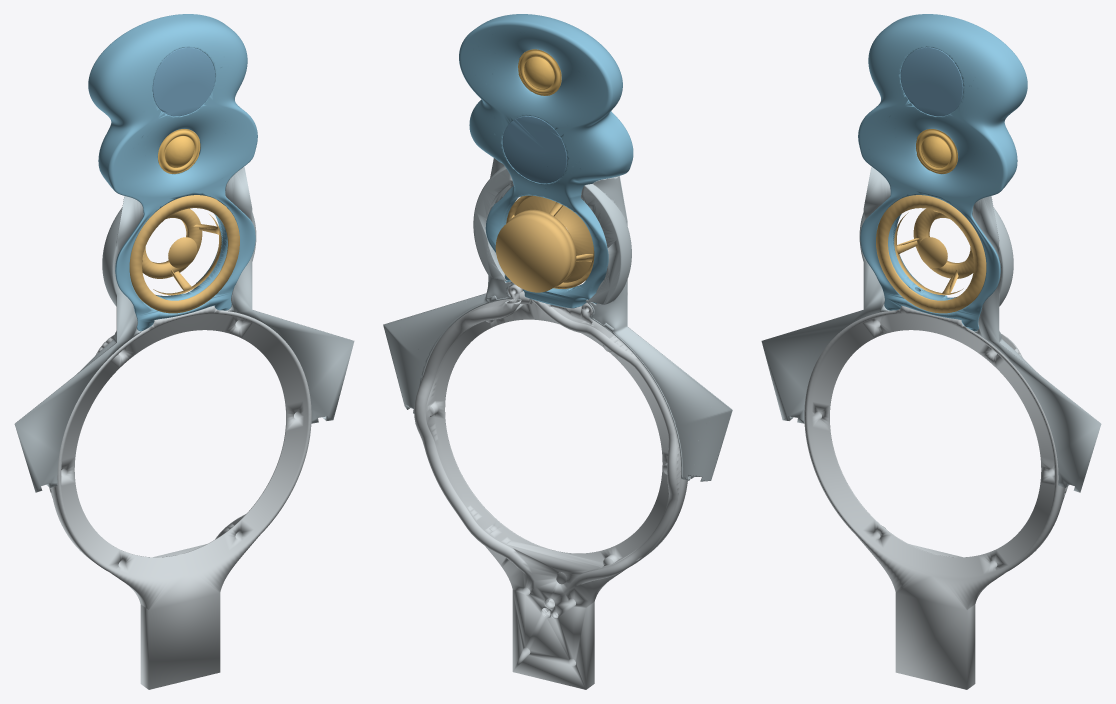
File: nd25fn4_graded_wings.glb
3 views of the same model, side by side, from view 1: azimuth 30°, elevation 25°; view 2: azimuth 150°, elevation 25°; view 3: azimuth 330°, elevation 25° (orthographic). The views are drawn at different scales.
Parts seen in each view (by area): view 1: existing_LM_carrier, fused_UM_V4, V4_graded_left_upper_wing, SEAS_MU10_reference_terminals_omitted, V4_graded_right_upper_wing, cap_upper, Dayton_ND25FN4_0_reference; view 2: existing_LM_carrier, fused_UM_V4, V4_graded_left_upper_wing, SEAS_MU10_reference_terminals_omitted, V4_graded_right_upper_wing, cap_lower, Dayton_ND25FN4_1_reference; view 3: existing_LM_carrier, fused_UM_V4, V4_graded_right_upper_wing, SEAS_MU10_reference_terminals_omitted, V4_graded_left_upper_wing, cap_upper, Dayton_ND25FN4_0_reference.
Part boxes in pixels (x1,y1,x2,y2): existing_LM_carrier: (49, 305, 311, 689); fused_UM_V4: (88, 14, 257, 331); V4_graded_left_upper_wing: (14, 196, 143, 492); SEAS_MU10_reference_terminals_omitted: (129, 195, 239, 313); V4_graded_right_upper_wing: (225, 167, 354, 423); cap_upper: (152, 47, 215, 116); Dayton_ND25FN4_0_reference: (158, 129, 200, 173); existing_LM_carrier: (414, 284, 687, 689); fused_UM_V4: (459, 14, 633, 308); V4_graded_left_upper_wing: (580, 176, 732, 481); SEAS_MU10_reference_terminals_omitted: (495, 195, 594, 292); V4_graded_right_upper_wing: (383, 158, 514, 413); cap_lower: (502, 116, 566, 183); Dayton_ND25FN4_1_reference: (518, 49, 561, 95); existing_LM_carrier: (804, 305, 1067, 689); fused_UM_V4: (858, 14, 1027, 331); V4_graded_right_upper_wing: (972, 196, 1101, 492); SEAS_MU10_reference_terminals_omitted: (876, 195, 986, 313); V4_graded_left_upper_wing: (761, 167, 890, 423); cap_upper: (900, 47, 963, 116); Dayton_ND25FN4_0_reference: (916, 129, 957, 173).
Bounding box in the file's own units: 0.3048 × 0.5556 × 0.0446.
